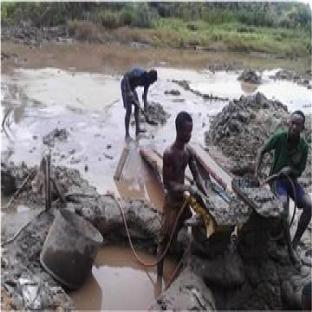Person: (270, 100, 312, 251), (172, 110, 198, 287), (117, 46, 162, 142)
